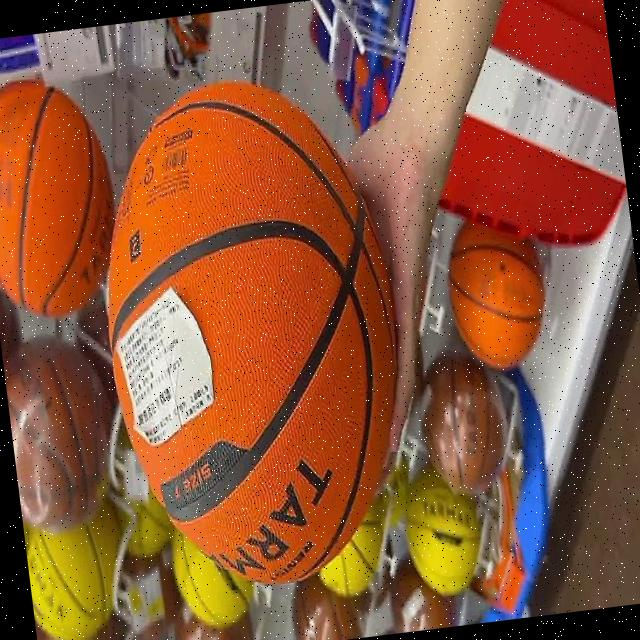ball: (77, 63, 426, 602), (0, 69, 127, 324), (0, 328, 126, 536), (412, 345, 512, 499)
